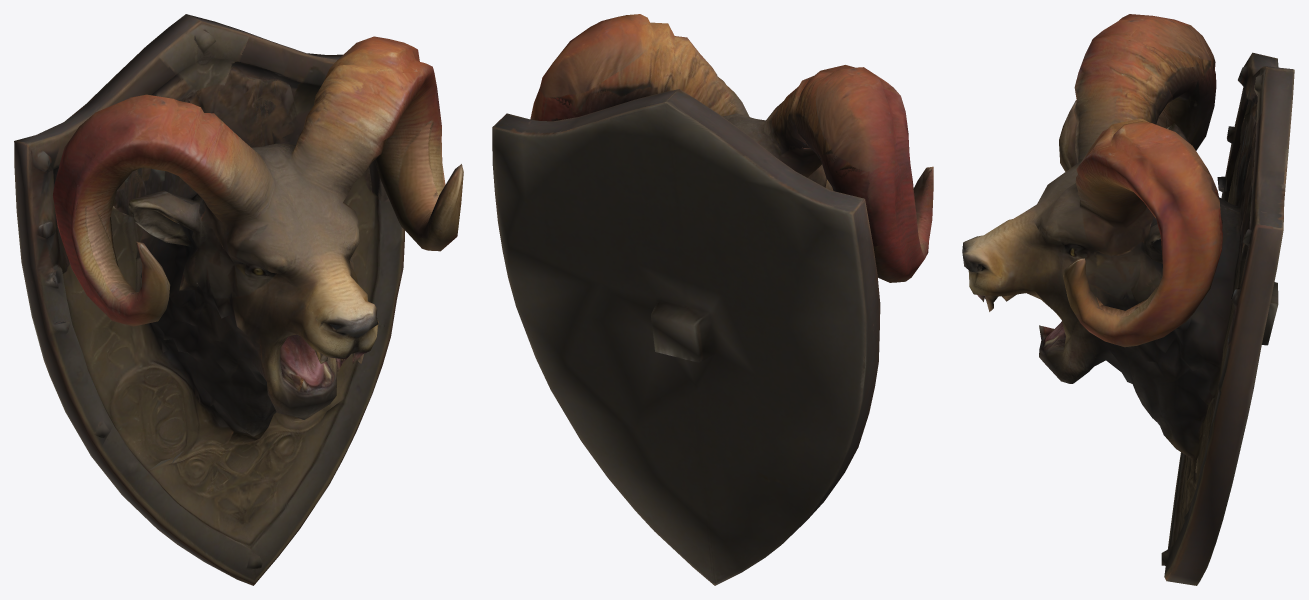
File: Rampant_Roar_0728201542_texture.fbx
3 renders of one model, left to right at view 1: azimuth 30°, elevation 25°; view 2: azimuth 150°, elevation 25°; view 3: azimuth 270°, elevation 25°, orthographic. The views are drawn at different scales.
Parts seen in each view (by area): view 1: input; view 2: input; view 3: input.
Boxes of the visible parts, x1,y1,x2,y2 form: input: (14, 14, 463, 585); input: (492, 14, 933, 585); input: (962, 14, 1294, 585).
Size of the model in its own units: 147 by 200 by 116.
1 material, 1 textured.
